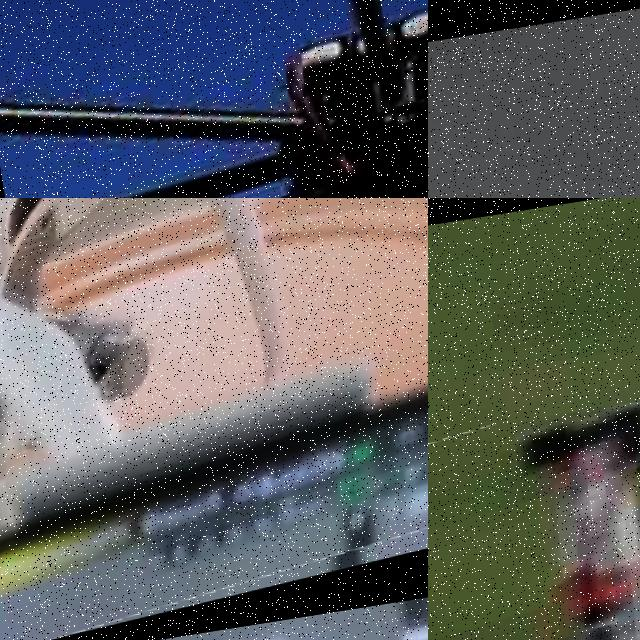drone: (0, 198, 428, 640), (0, 0, 428, 198), (428, 353, 640, 640)
